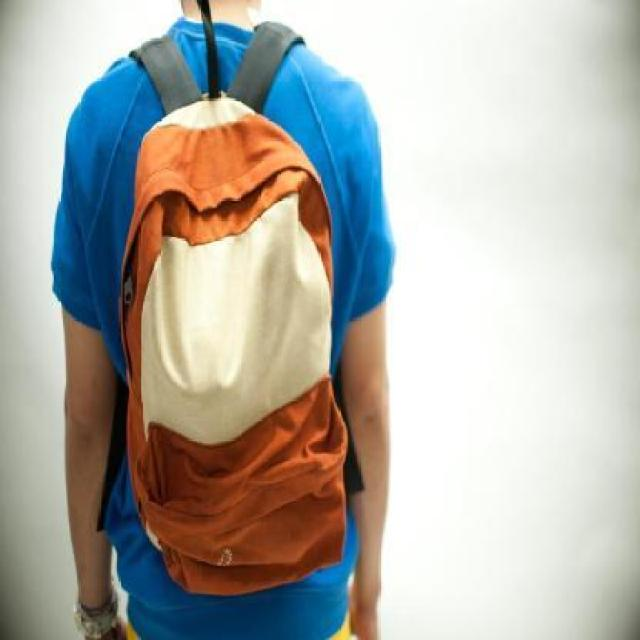backpack: (118, 90, 350, 602)
